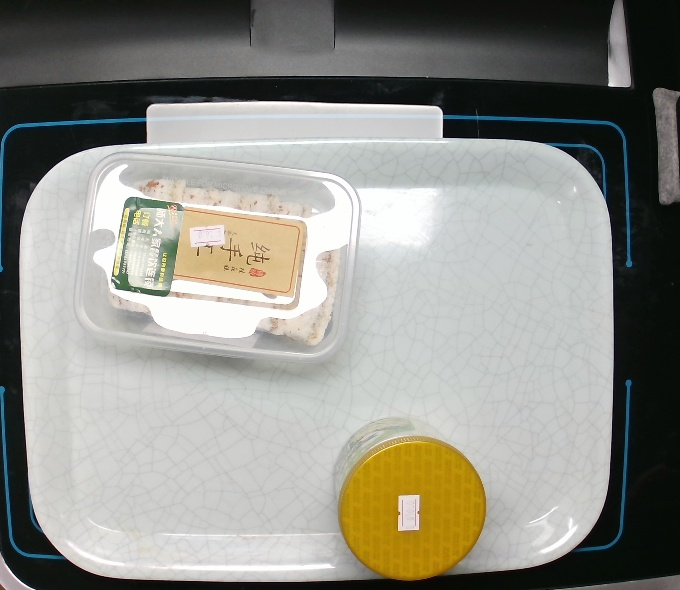wcq-GuiHuaGao: (71, 149, 361, 367)
wcq-MaiYaTang: (330, 412, 488, 582)
